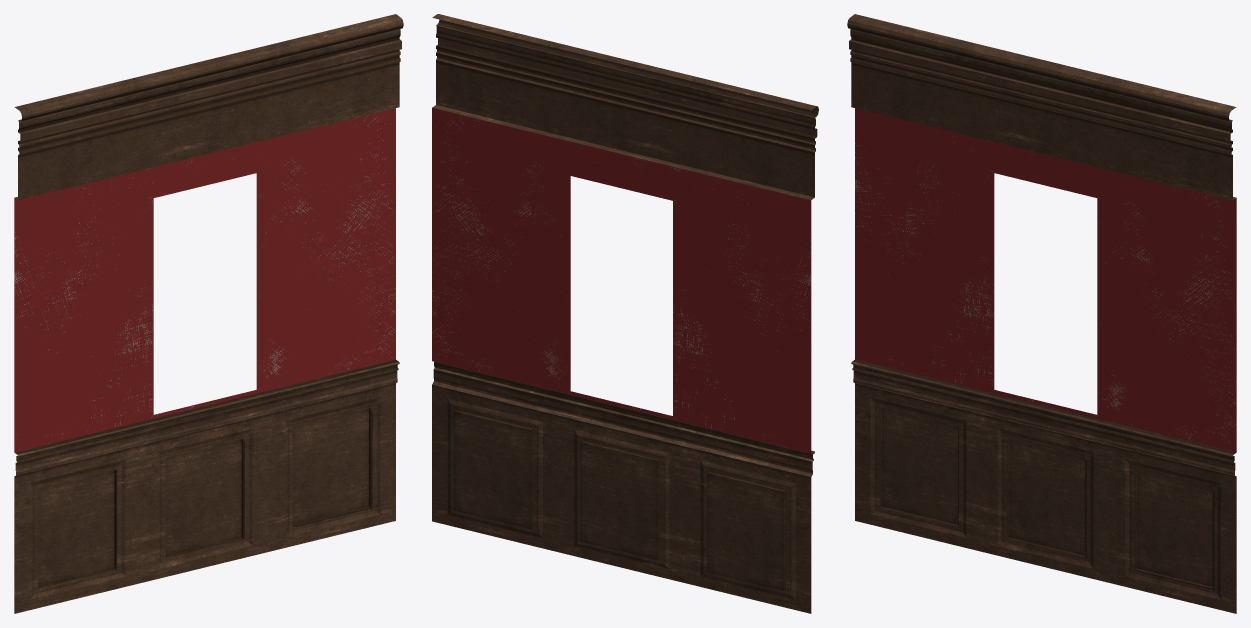
Rendered from SM_Wall_4_001.fbx.
The picture shows the model from 3 angles, left to right: view 1: azimuth 30°, elevation 25°; view 2: azimuth 150°, elevation 25°; view 3: azimuth 330°, elevation 25°; orthographic projection.
Visible parts, largest first — view 1: cheminé:cheminé:mur_fenetrre; view 2: cheminé:cheminé:mur_fenetrre; view 3: cheminé:cheminé:mur_fenetrre.
Part boxes in pixels (x1,y1,x2,y2): cheminé:cheminé:mur_fenetrre: (14, 14, 403, 613); cheminé:cheminé:mur_fenetrre: (432, 14, 818, 613); cheminé:cheminé:mur_fenetrre: (847, 14, 1236, 613).
Size of the model in its own units: 441 by 560 by 19.99.
